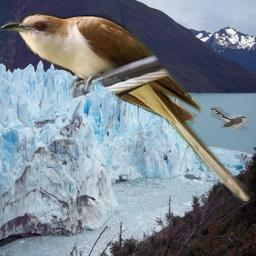Cuckoo: (0, 11, 255, 206), (211, 107, 250, 132)
